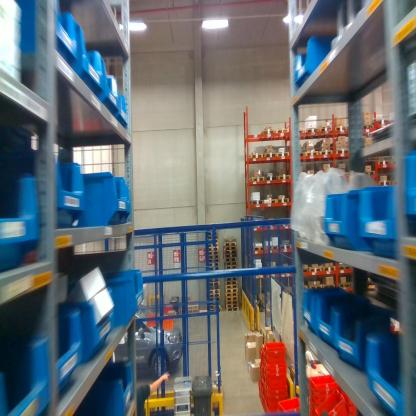pallet: (321, 263, 336, 271), (309, 264, 321, 273), (319, 149, 334, 156), (338, 281, 351, 289), (305, 127, 319, 134), (308, 282, 322, 289), (362, 123, 374, 131), (275, 128, 288, 135), (334, 125, 347, 132), (265, 244, 278, 251), (225, 305, 240, 311), (260, 129, 275, 135), (224, 260, 238, 266), (224, 264, 238, 270), (378, 180, 390, 187), (305, 150, 319, 156), (264, 200, 276, 207), (279, 243, 291, 250), (249, 177, 265, 182), (224, 236, 237, 242), (224, 241, 237, 247), (336, 148, 349, 154), (277, 151, 290, 157), (207, 222, 218, 229), (249, 153, 264, 158), (320, 126, 332, 132), (277, 198, 289, 204), (265, 176, 277, 182), (224, 245, 238, 250), (322, 282, 336, 287), (208, 246, 219, 252), (254, 246, 265, 252), (225, 291, 238, 296), (225, 296, 238, 301), (206, 227, 219, 232), (277, 175, 290, 180), (338, 264, 351, 269), (226, 276, 238, 281), (207, 231, 219, 236), (208, 242, 220, 247), (209, 258, 219, 264), (379, 160, 389, 166), (265, 153, 277, 158), (224, 257, 238, 261), (225, 288, 239, 292), (225, 284, 239, 288), (225, 304, 239, 308), (187, 308, 198, 313), (209, 265, 220, 270), (210, 285, 221, 290), (224, 250, 237, 254), (224, 253, 237, 257), (225, 280, 238, 284), (209, 250, 219, 255), (209, 254, 219, 259), (365, 169, 375, 174), (226, 300, 238, 304), (187, 305, 199, 309), (209, 279, 221, 283), (211, 307, 223, 311), (251, 200, 263, 204), (208, 235, 219, 239), (210, 282, 221, 286), (210, 290, 221, 294), (210, 294, 221, 298), (209, 239, 219, 243), (209, 262, 219, 266), (302, 266, 308, 272), (210, 305, 221, 308), (210, 302, 220, 305), (392, 179, 398, 184), (300, 151, 305, 156), (303, 283, 307, 289), (210, 299, 221, 301), (299, 130, 304, 134)
pallet_truck: (257, 276, 265, 313), (287, 277, 291, 295), (274, 276, 276, 281)
small_load_carrier: (314, 389, 349, 415), (264, 335, 289, 365), (308, 369, 342, 391), (261, 390, 292, 411), (263, 368, 287, 394), (308, 383, 332, 403), (281, 392, 303, 413), (264, 383, 289, 396), (258, 347, 265, 362), (306, 397, 313, 410), (263, 346, 267, 366)
